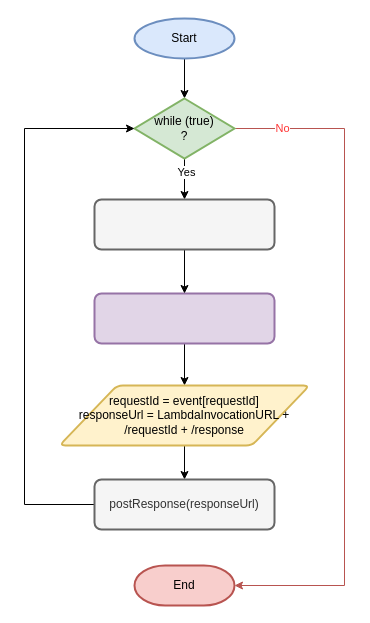
Some shapes in this 370 by 623 pixel diagram are drawn without their labels. Here are the shapes that lost their labels. From the top down, the box of each, then its label:
(93, 198, 275, 250): event = FetchNextEvent( LambdaInvocationURL + /next)
(93, 292, 275, 344): handlerResponse = handler(event)
